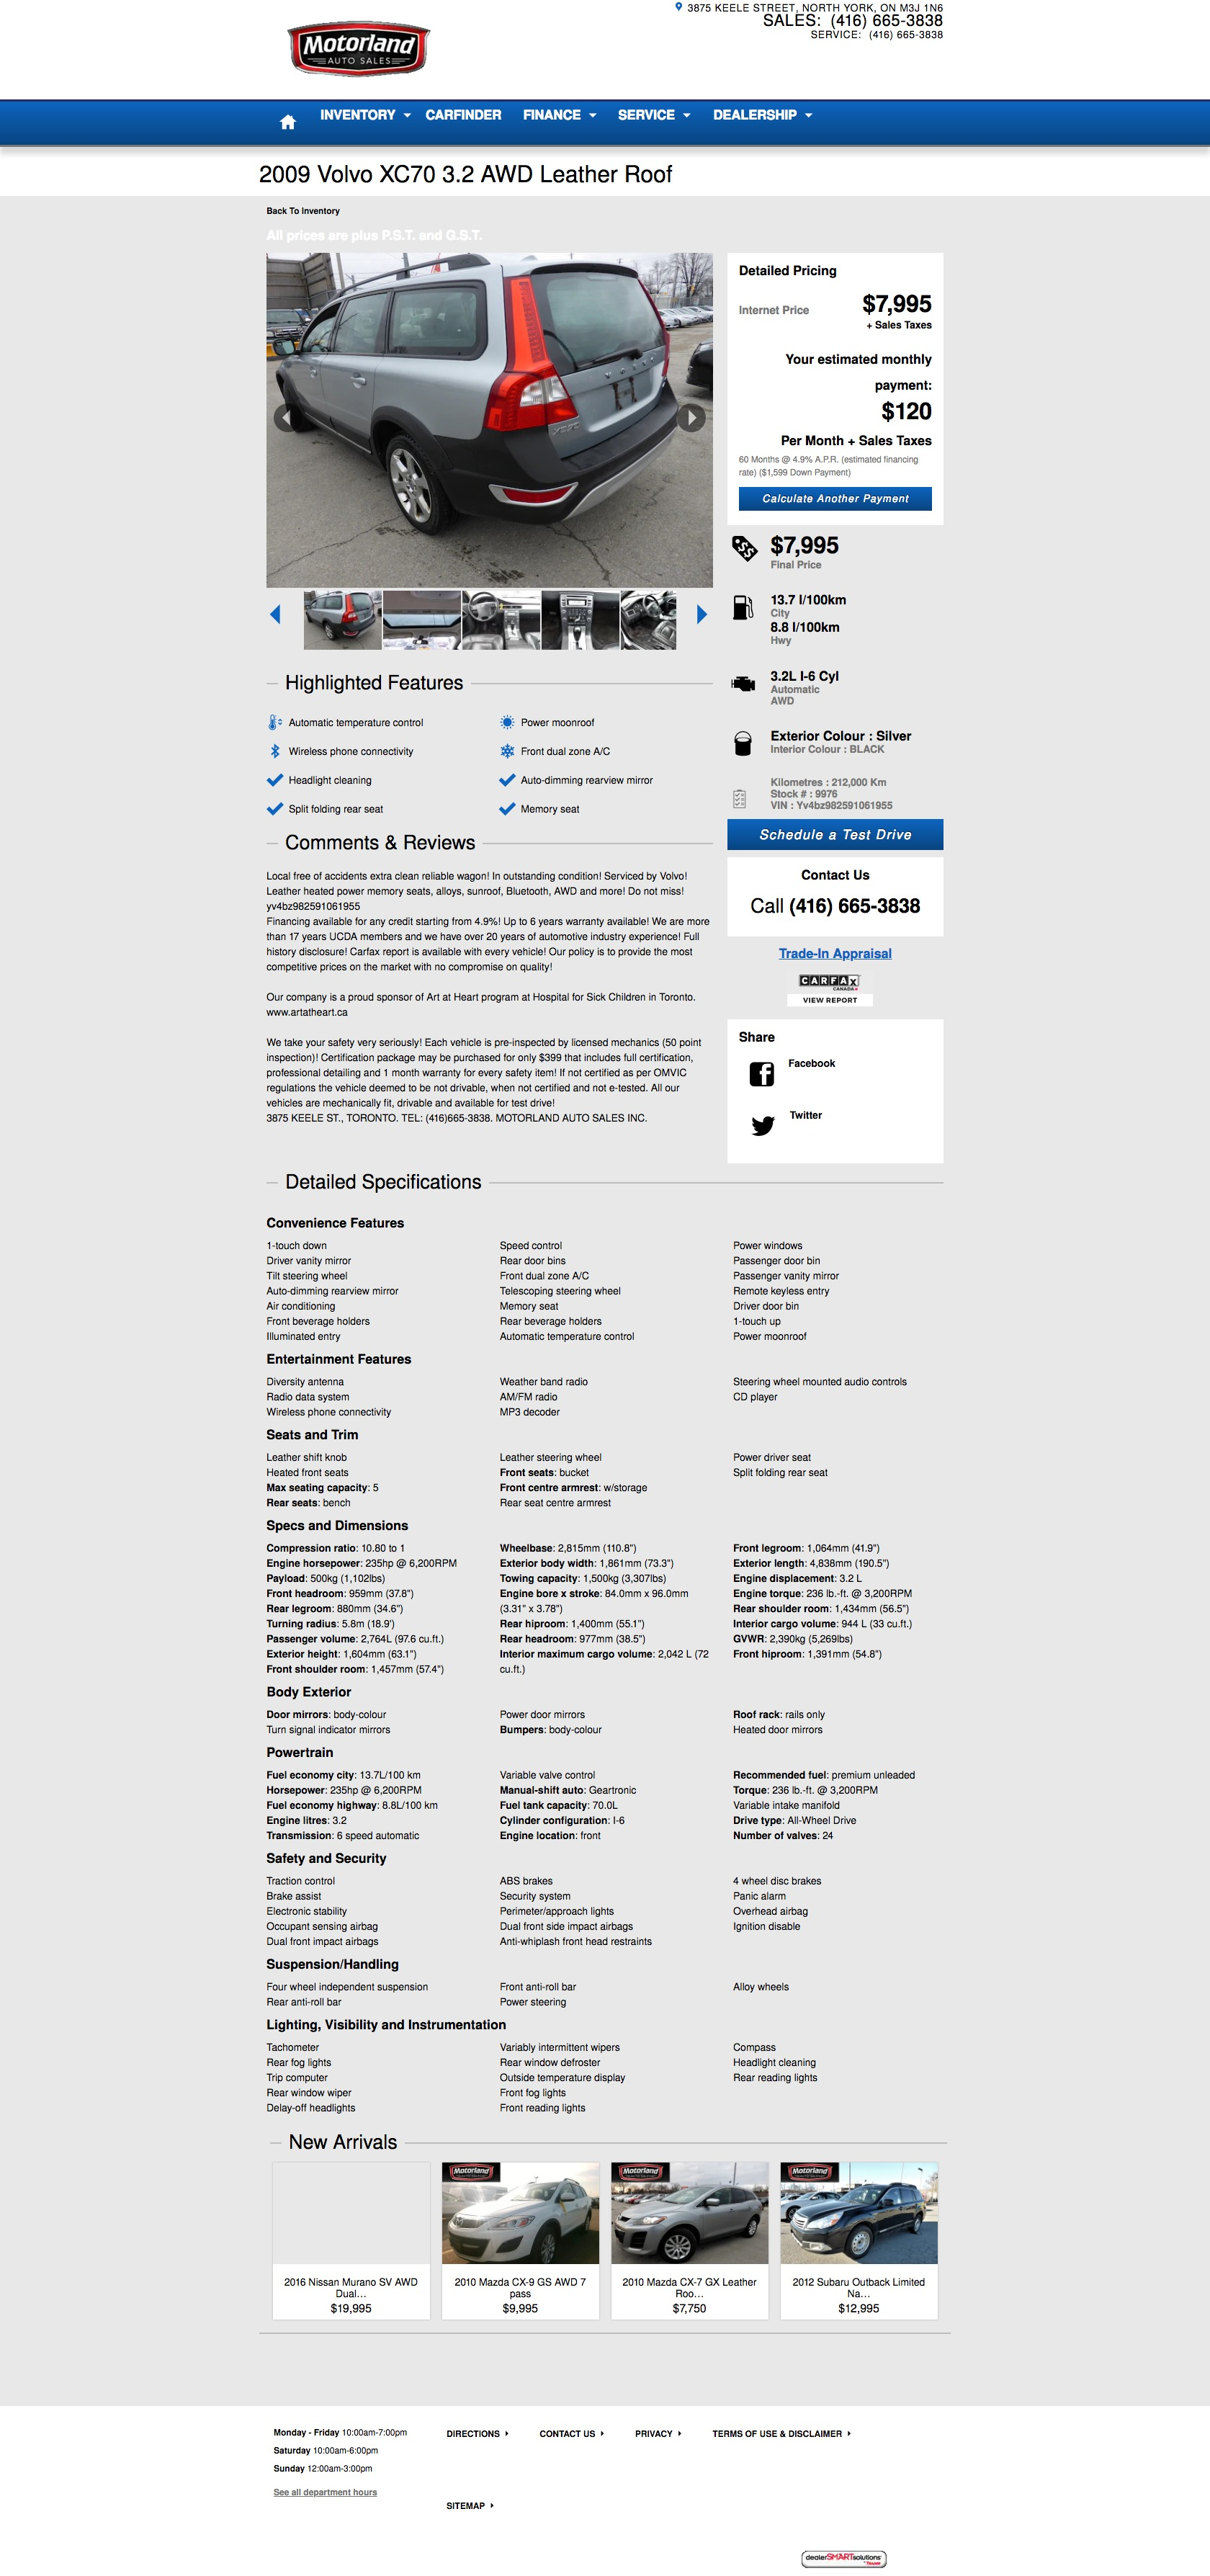car: (696, 605, 709, 626)
